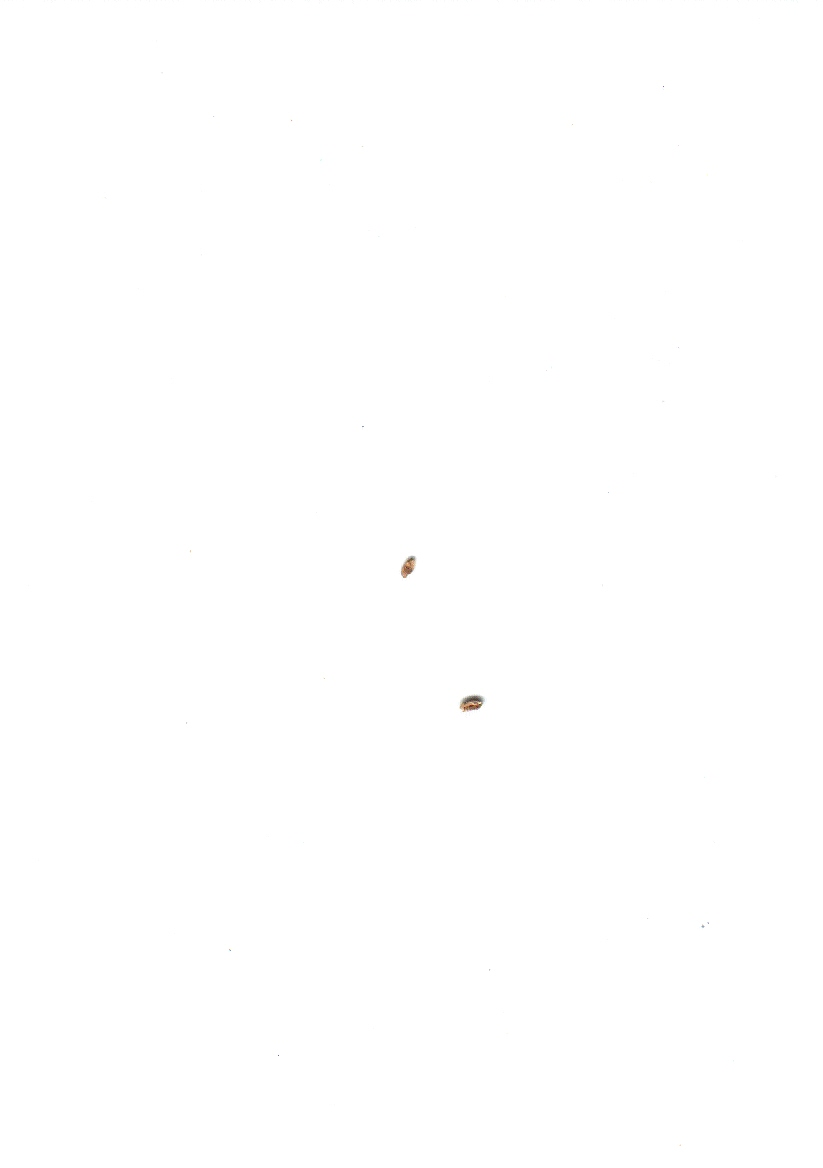grains: (388, 542, 423, 594), (455, 685, 494, 723)
